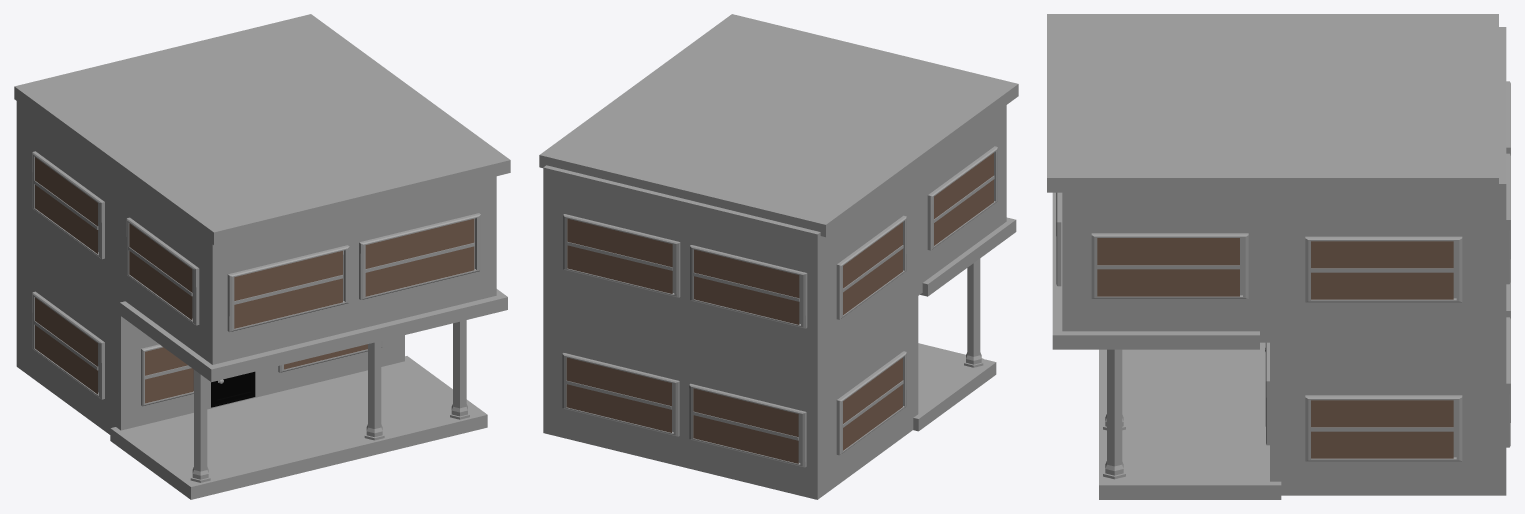
File: Building1.fbx
3 renders of one model, left to right at view 1: azimuth 30°, elevation 25°; view 2: azimuth 150°, elevation 25°; view 3: azimuth 270°, elevation 25°, orthographic. The views are drawn at different scales.
Parts seen in each view (by area): view 1: pCylinder89, polySurface682, polySurface683, polySurface681, polySurface680, polySurface679, polySurface677, pSphere37, polySurface678; view 2: pCylinder89, polySurface688, polySurface687, polySurface689, polySurface690, polySurface681, polySurface679, polySurface680; view 3: pCylinder89, polySurface686, polySurface685, polySurface684, polySurface687, polySurface689, polySurface683.
Part boxes in pixels (x1,y1,x2,y2): pCylinder89: [14, 14, 510, 499]; polySurface682: [227, 245, 349, 332]; polySurface683: [359, 213, 480, 299]; polySurface681: [126, 217, 199, 325]; polySurface680: [32, 151, 104, 259]; polySurface679: [32, 291, 104, 399]; polySurface677: [141, 344, 193, 406]; pSphere37: [211, 371, 255, 407]; polySurface678: [278, 340, 382, 372]; pCylinder89: [539, 14, 1018, 499]; polySurface688: [690, 245, 807, 328]; polySurface687: [563, 214, 680, 297]; polySurface689: [562, 353, 679, 436]; polySurface690: [689, 383, 806, 467]; polySurface681: [927, 146, 997, 250]; polySurface679: [836, 351, 906, 455]; polySurface680: [836, 215, 906, 319]; pCylinder89: [1047, 14, 1506, 499]; polySurface686: [1305, 395, 1462, 461]; polySurface685: [1305, 236, 1462, 302]; polySurface684: [1091, 233, 1248, 298]; polySurface687: [1506, 153, 1510, 284]; polySurface689: [1506, 317, 1510, 447]; polySurface683: [1056, 192, 1061, 286].
Size of the model in its own units: 203 by 186 by 243.
